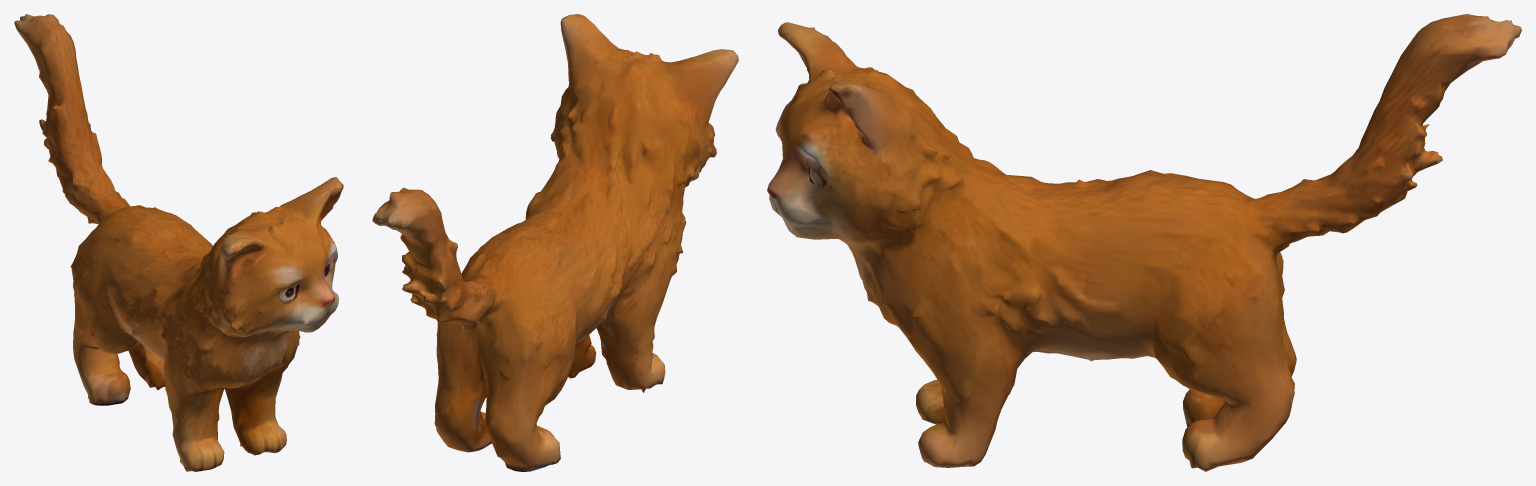
The model's file is mob_alley_cat.glb.
3 views of the same model, side by side, from view 1: azimuth 30°, elevation 25°; view 2: azimuth 150°, elevation 25°; view 3: azimuth 270°, elevation 25° (orthographic). The views are drawn at different scales.
Parts seen in each view (by area): view 1: geometry_0; view 2: geometry_0; view 3: geometry_0.
Part boxes in pixels (box(x1,y1,x2,y2)): geometry_0: box(14, 14, 343, 471); geometry_0: box(372, 14, 738, 471); geometry_0: box(767, 14, 1521, 471).
Size of the model in its own units: 0.5602 by 1.19 by 1.91.
Materials: 1 (1 with a texture image).
